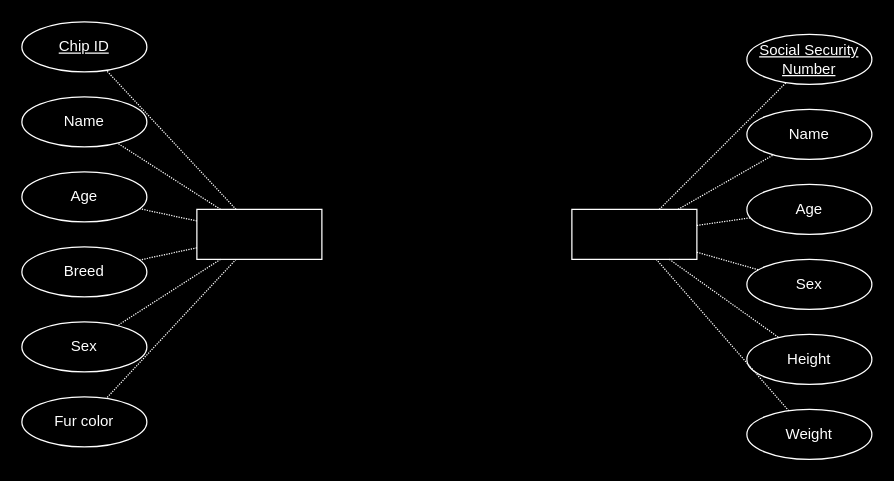
Image size: 894x481. Some labels were removed from this diagram. Here are the shapes that lost their labels. From the top down, the centre of each, then its label:
point 259,233: Dog
point 634,233: Person
